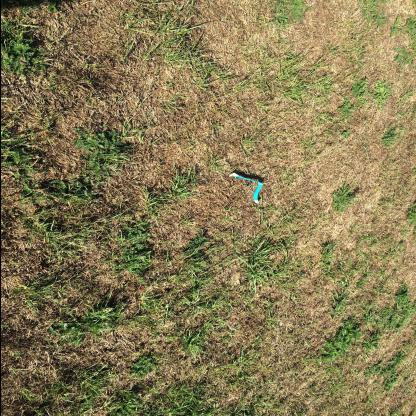diger: (228, 172, 262, 204)
